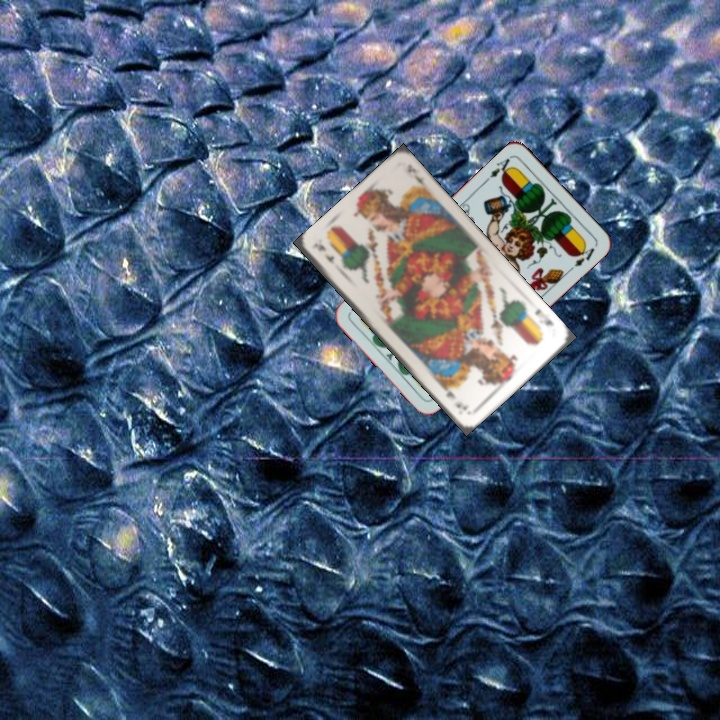EA: (486, 152, 515, 181)
EK: (530, 304, 556, 329), (314, 240, 337, 266)
